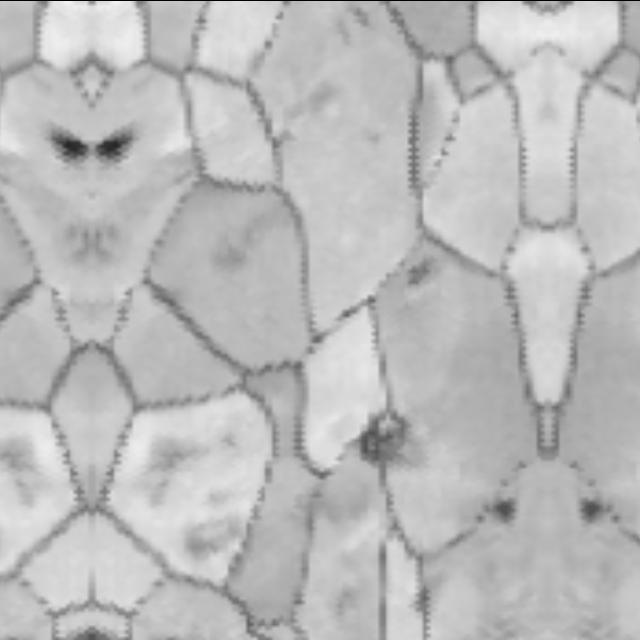good_void: (139, 430, 213, 506), (179, 509, 240, 563), (0, 430, 43, 506), (358, 407, 410, 464), (328, 4, 369, 60), (92, 131, 131, 165), (51, 131, 90, 165), (405, 251, 435, 288), (489, 496, 512, 523), (582, 496, 605, 523), (417, 586, 427, 606)
